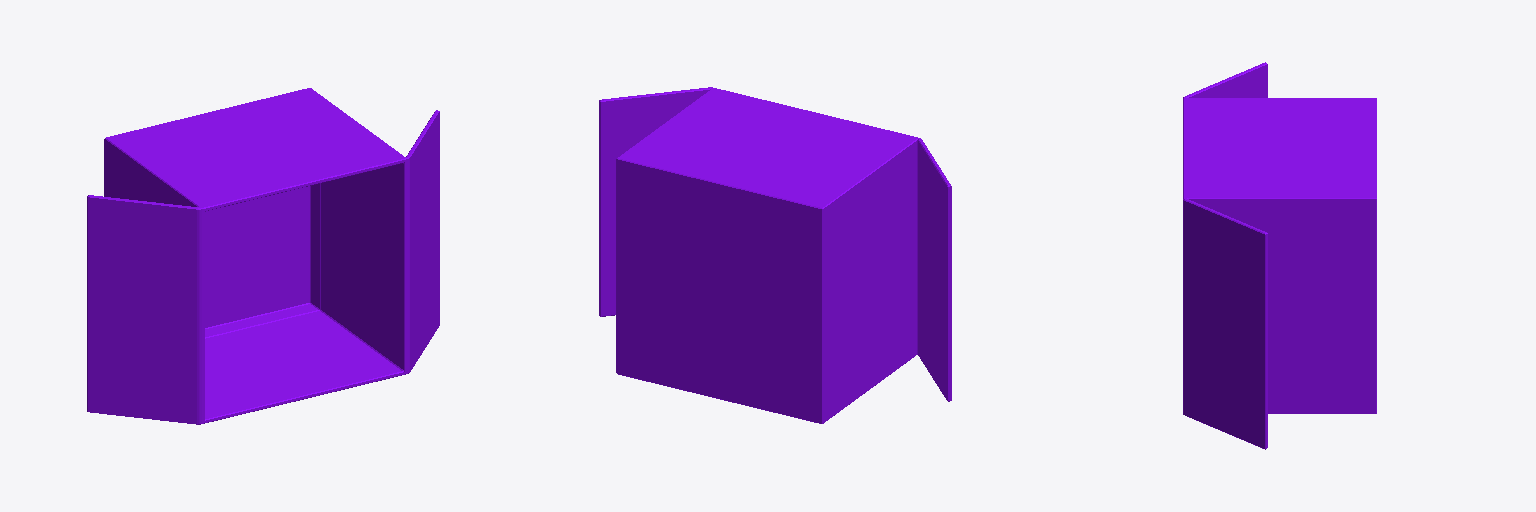
Rendered from BoxPurple.obj.
The picture shows the model from 3 angles: view 1: azimuth 30°, elevation 25°; view 2: azimuth 150°, elevation 25°; view 3: azimuth 270°, elevation 25°; orthographic projection.
Visible parts, largest first — view 1: BuffoonBox; view 2: BuffoonBox; view 3: BuffoonBox.
Part boxes in pixels (left/top/right/bottom): BuffoonBox: left=87, top=88, right=439, bottom=424; BuffoonBox: left=599, top=87, right=951, bottom=423; BuffoonBox: left=1183, top=62, right=1376, bottom=449.
Size of the model in its own units: 0.4424 by 0.26 by 0.2121.